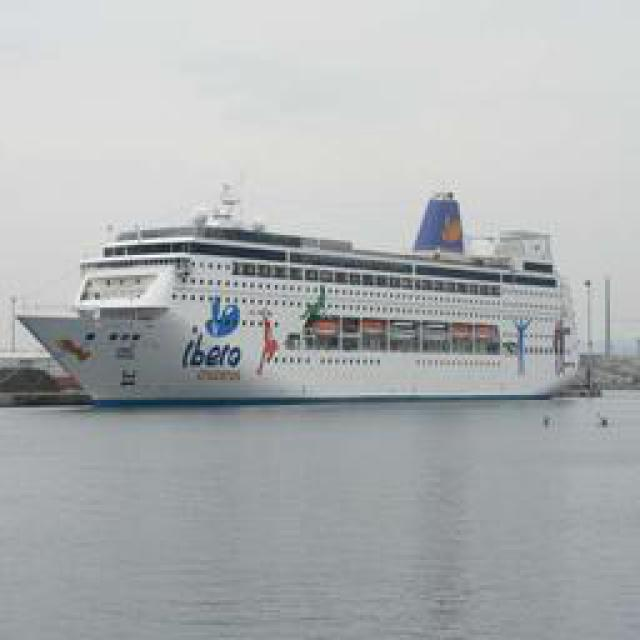Ship: (33, 187, 601, 397)
